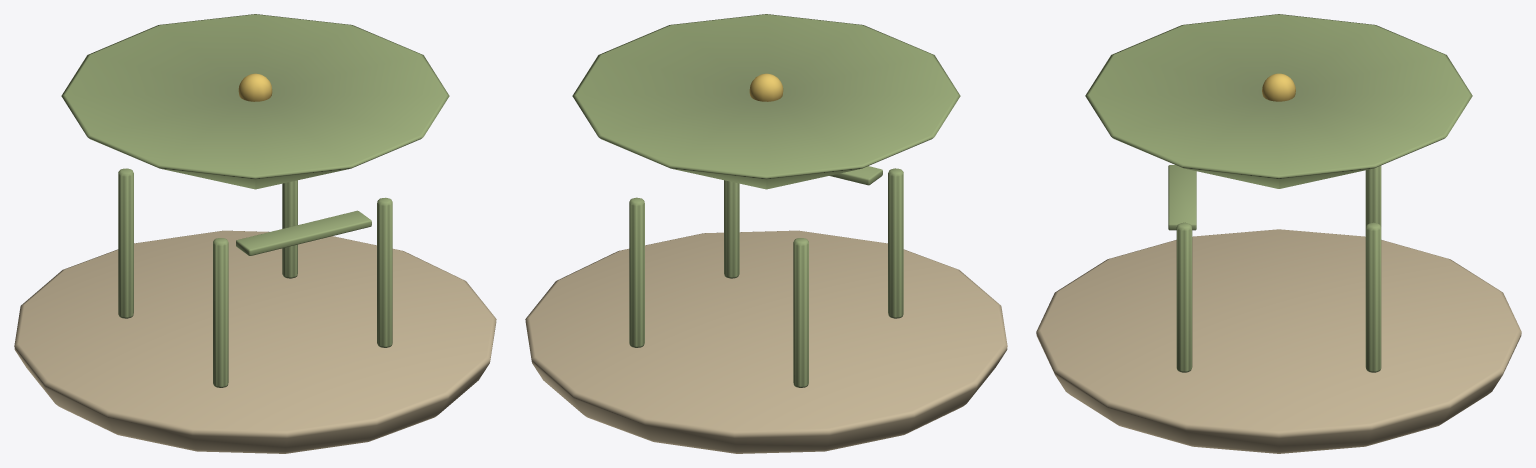
3 renders of one model, left to right at view 1: azimuth 30°, elevation 25°; view 2: azimuth 150°, elevation 25°; view 3: azimuth 270°, elevation 25°, orthographic.
Visible parts, largest first — view 1: landmark_0e30bc47; view 2: landmark_0e30bc47; view 3: landmark_0e30bc47.
Part boxes in pixels (x1,y1,x2,y2): landmark_0e30bc47: [14, 14, 496, 453]; landmark_0e30bc47: [525, 14, 1007, 453]; landmark_0e30bc47: [1036, 14, 1521, 453].
Bounding box in the file's own units: 5.13 × 3.33 × 5.13.
